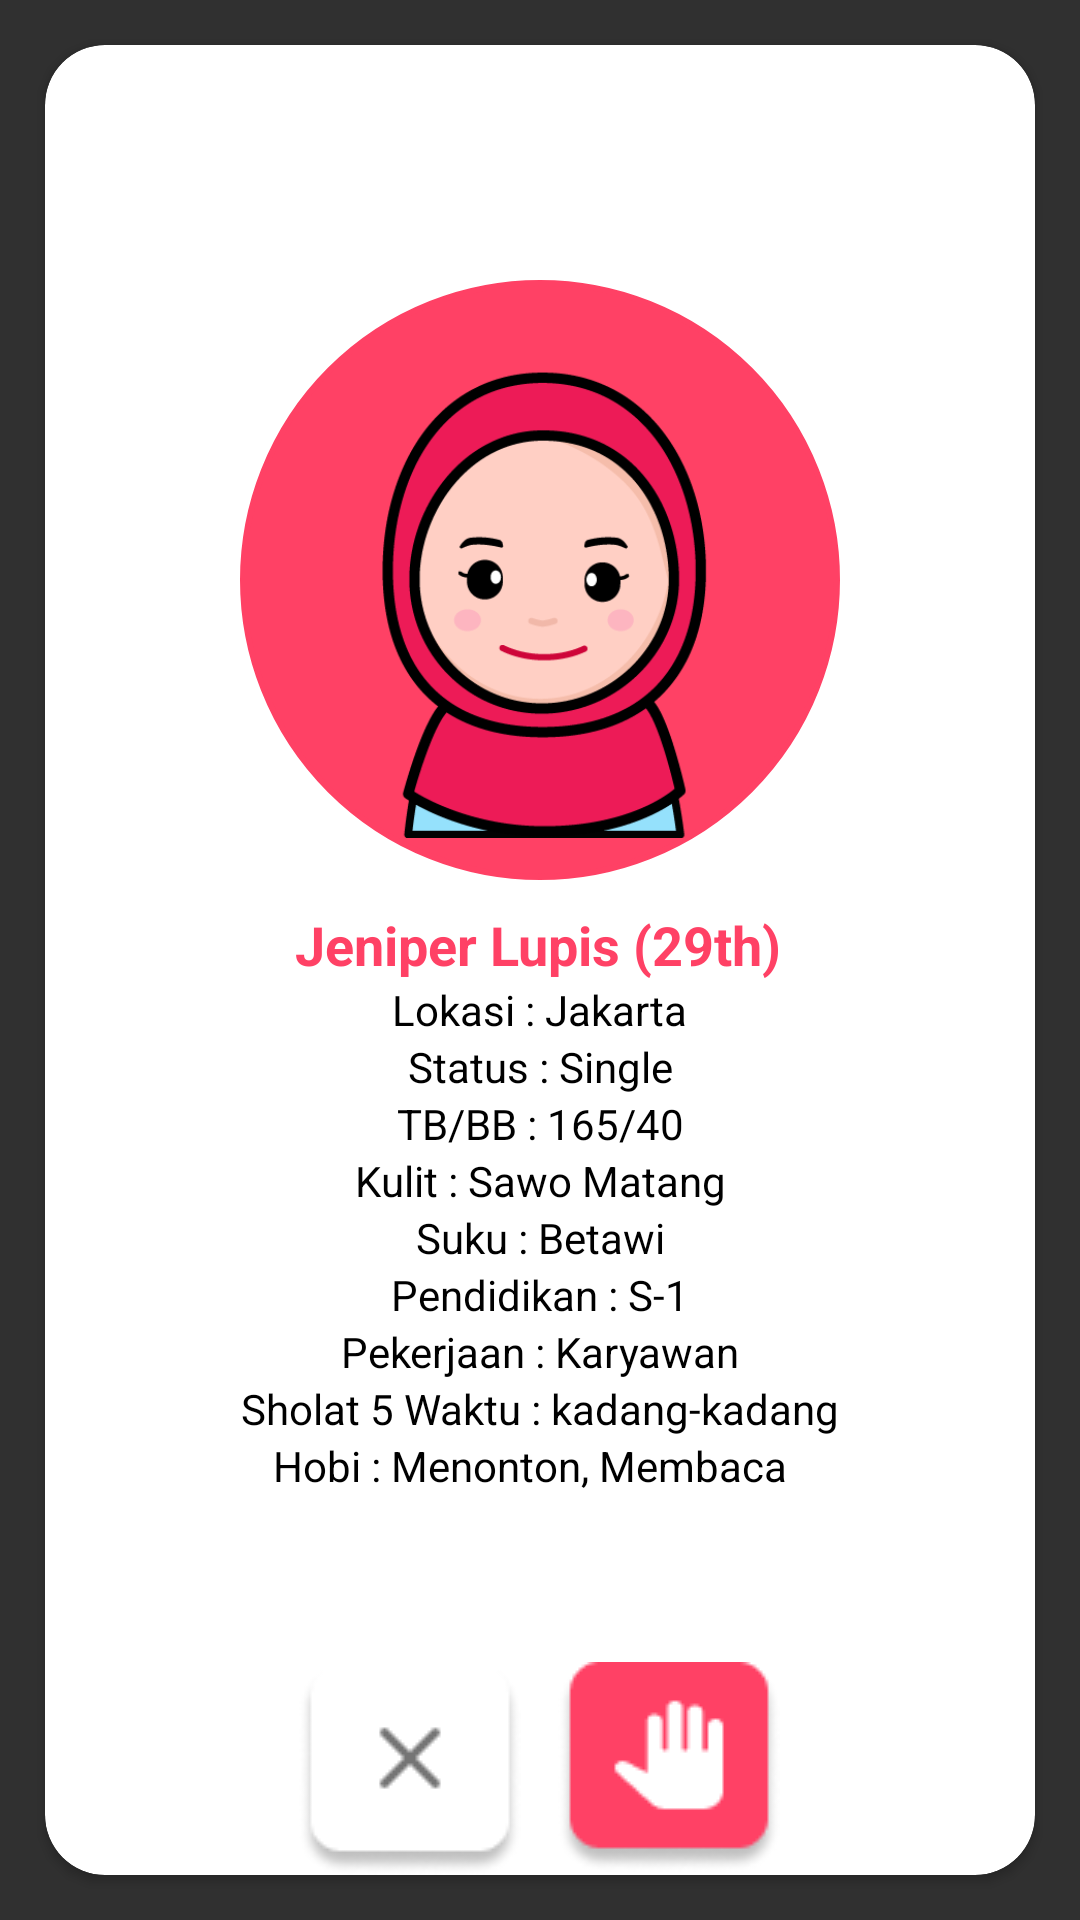

Icons on this 1080px×1920px Android screen, each with the point to tap as (x=x, y=y):
hai: (x=669, y=1762)
